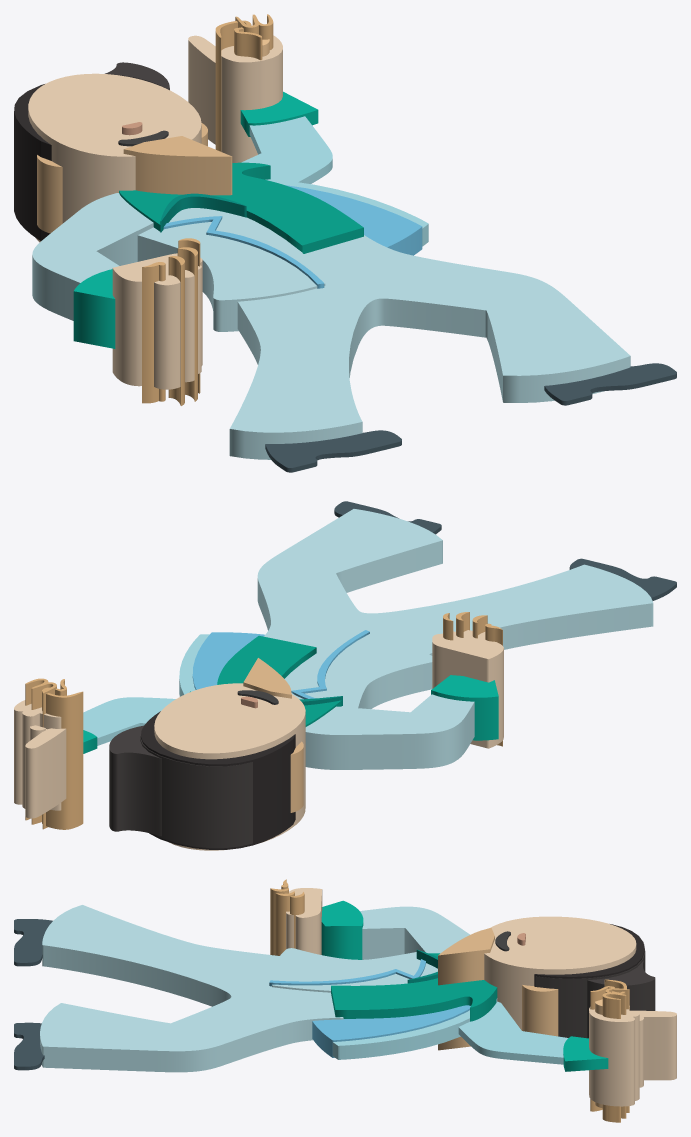
The model's file is emoji_u1f57a_1f3fb.glb.
The picture shows the model from 3 angles, top to bottom: view 1: azimuth 30°, elevation 25°; view 2: azimuth 150°, elevation 25°; view 3: azimuth 270°, elevation 25°; orthographic projection. The views are drawn at different scales.
Parts seen in each view (by area): view 1: emoji_u1f57a_1f3fb; view 2: emoji_u1f57a_1f3fb; view 3: emoji_u1f57a_1f3fb.
Part boxes in pixels (box(x1,y1,x2,y2)): emoji_u1f57a_1f3fb: box(14, 14, 676, 472); emoji_u1f57a_1f3fb: box(14, 501, 676, 850); emoji_u1f57a_1f3fb: box(14, 879, 676, 1122).
Bounding box in the file's own units: 0.0187 × 0.007 × 0.0342.
